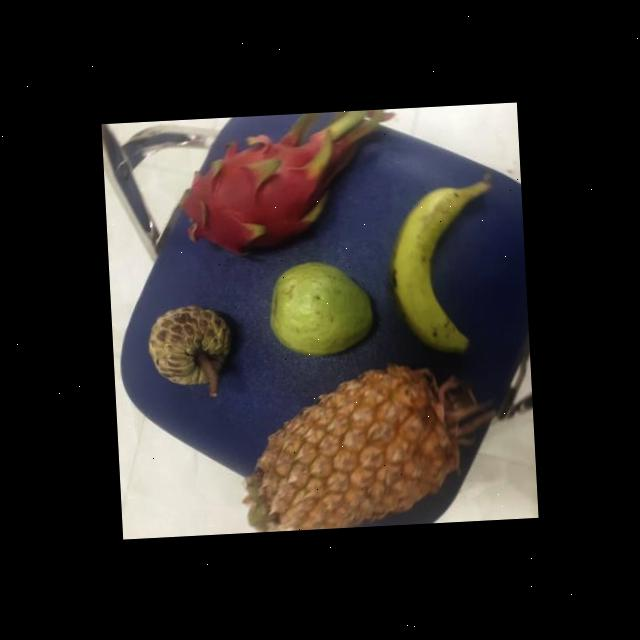Sakya fruit: (146, 298, 238, 392)
banana: (386, 174, 484, 349)
guava: (269, 252, 375, 358)
pitaya: (184, 135, 329, 259)
